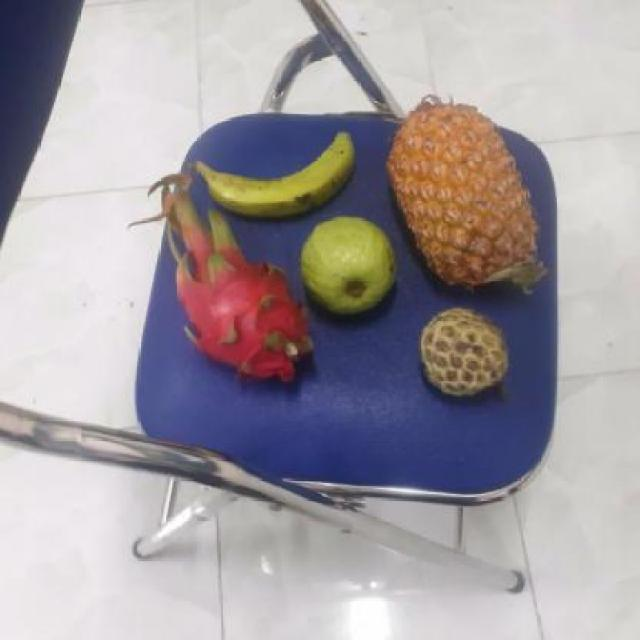banana: (199, 123, 359, 220)
dragon fruit: (175, 199, 316, 379)
guava: (299, 215, 403, 316)
pineapple: (392, 101, 550, 294)
sugar apple: (420, 308, 518, 399)
